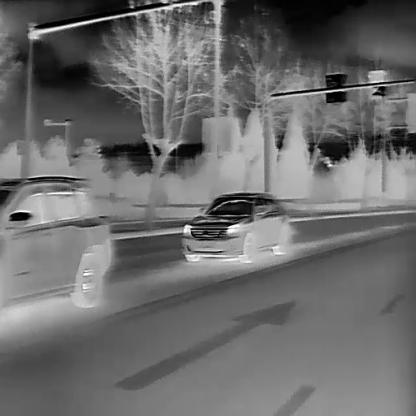car: (0, 173, 112, 309), (179, 188, 292, 262)
